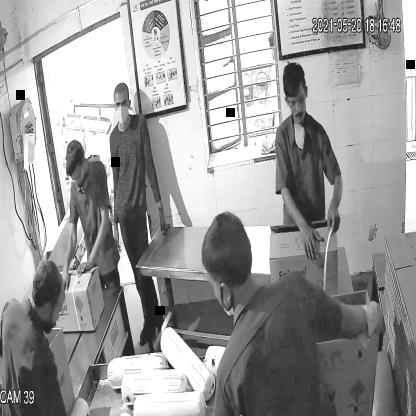no_goggles: (113, 98, 131, 110)
